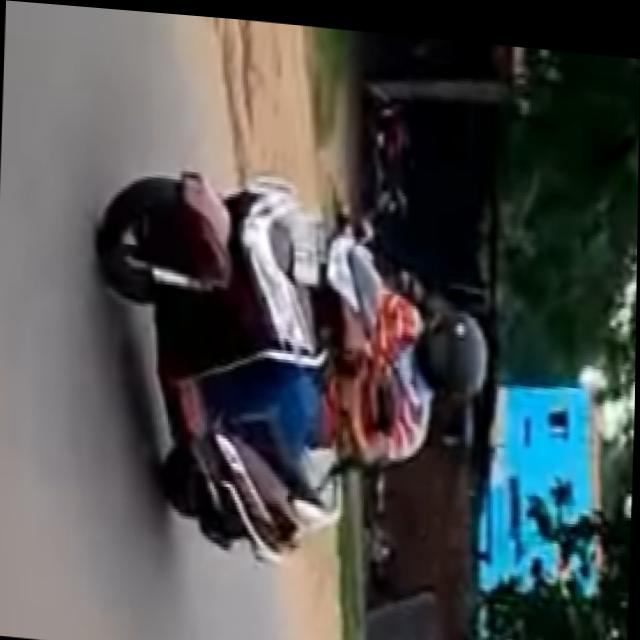WITH_HELMET: (409, 303, 494, 396)
normal: (271, 157, 511, 552)
